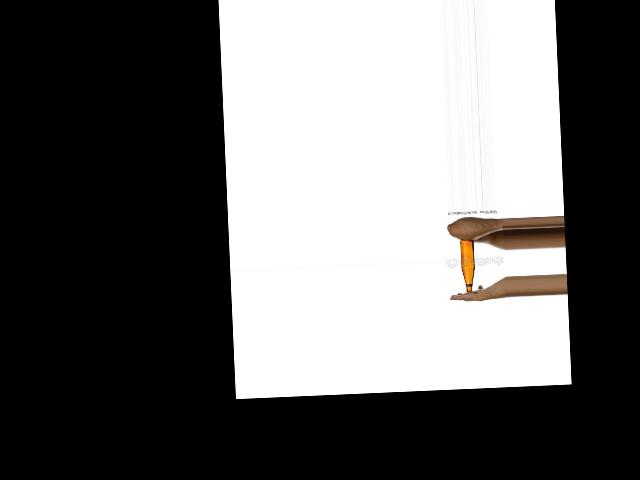beer: (460, 239, 476, 293)
